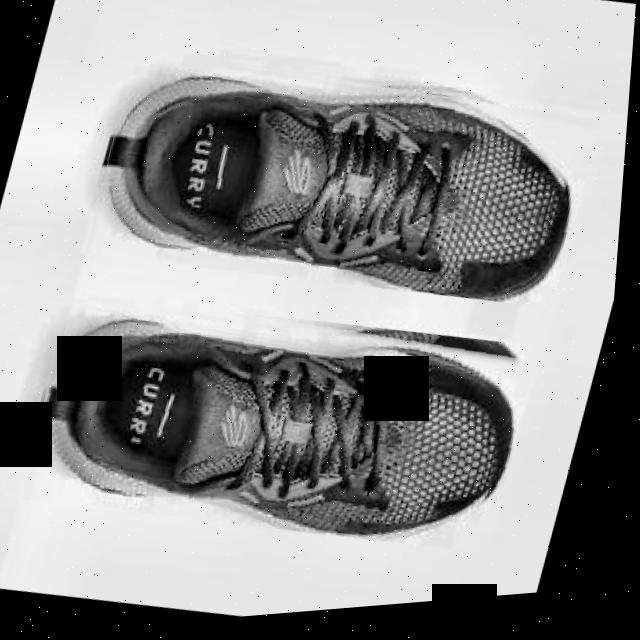shoe: (77, 23, 606, 346), (19, 264, 545, 583), (44, 317, 527, 549), (108, 76, 579, 310)
